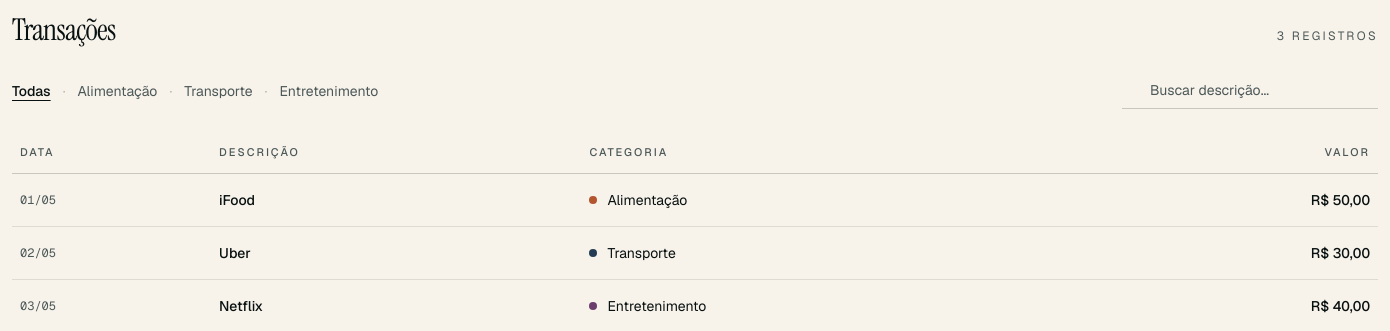
Test: filters transactions by category chip
Click the button "Alimentação" at {"x": 117, "y": 90}, box [78, 80, 157, 100]
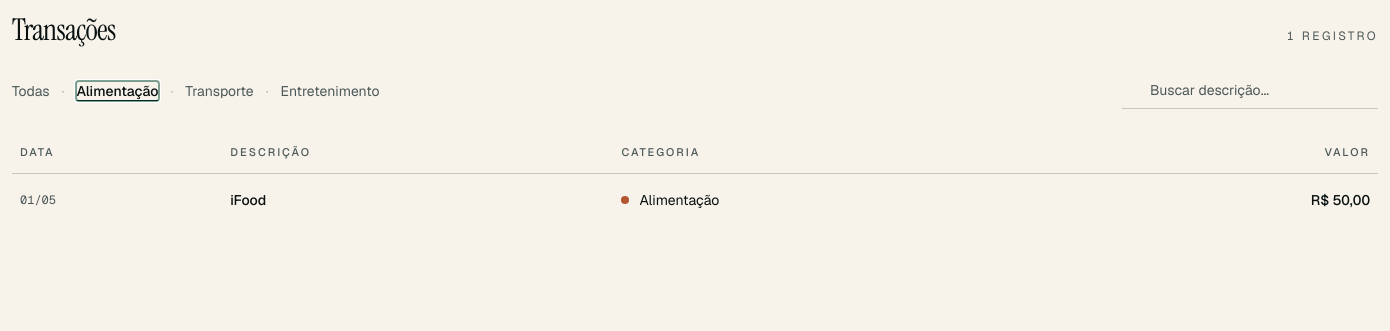
Check: the text "iFood" is shown, box [222, 173, 614, 226]
Check: the text "Uber" is gone
Check: the text "Netflix" is gone
